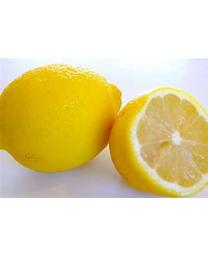lemon: (2, 64, 122, 176), (108, 86, 207, 197)
